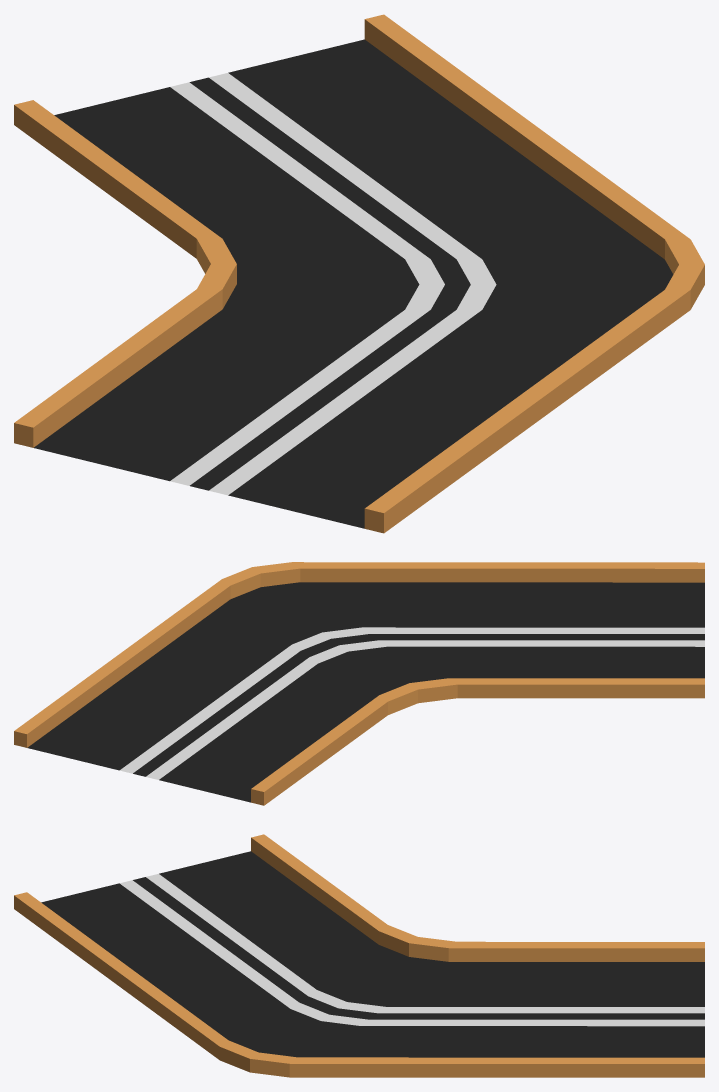
File: Road_corner.fbx
3 views of the same model, one above another, from view 1: azimuth 30°, elevation 25°; view 2: azimuth 150°, elevation 25°; view 3: azimuth 270°, elevation 25° (orthographic). The views are drawn at different scales.
Parts seen in each view (by area): view 1: RoadCorner.002; view 2: RoadCorner.002; view 3: RoadCorner.002.
Boxes of the visible parts, box(x1,y1,x2,y2) form: RoadCorner.002: box(14, 14, 704, 533); RoadCorner.002: box(14, 562, 704, 805); RoadCorner.002: box(14, 834, 704, 1077).
Size of the model in its own units: 71.97 by 2 by 91.52.
